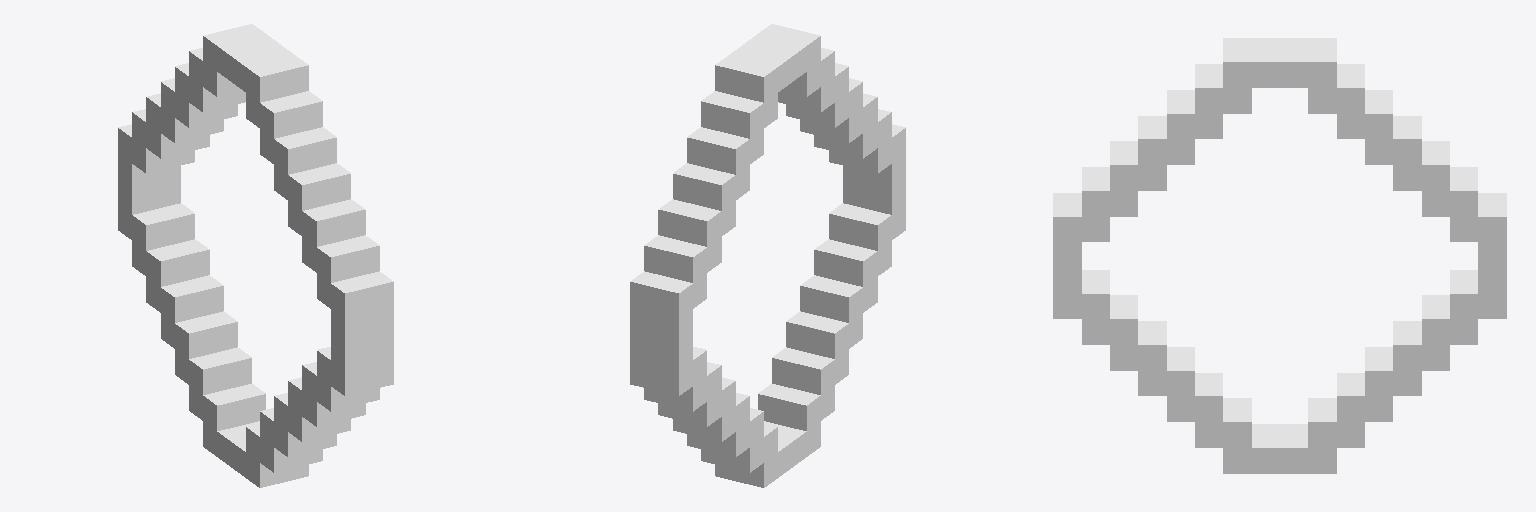
Rendered from stuntEC.obj.
The picture shows the model from 3 angles: view 1: azimuth 30°, elevation 25°; view 2: azimuth 150°, elevation 25°; view 3: azimuth 270°, elevation 25°; orthographic projection.
Parts seen in each view (by area): view 1: object 1; view 2: object 1; view 3: object 1.
Part boxes in pixels (bbox=[...]): object 1: bbox=[118, 24, 393, 487]; object 1: bbox=[630, 24, 905, 487]; object 1: bbox=[1053, 38, 1506, 473].
Bounding box in the file's own units: 0.2 × 1.6 × 1.6.